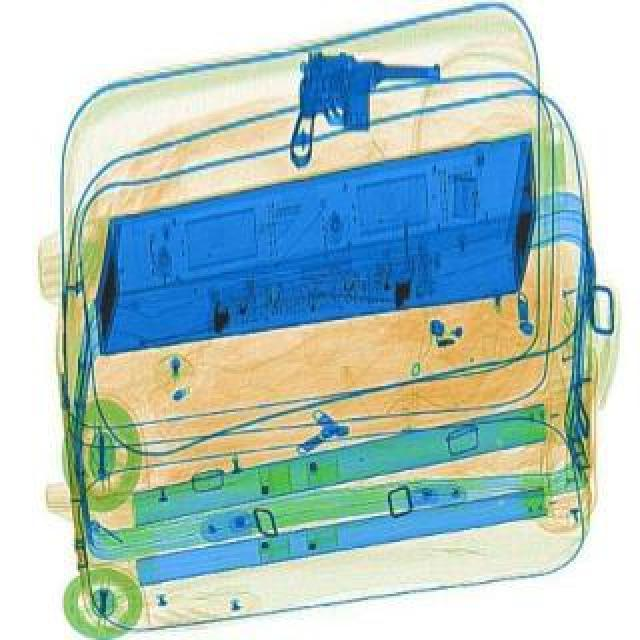gun: (286, 46, 446, 176)
